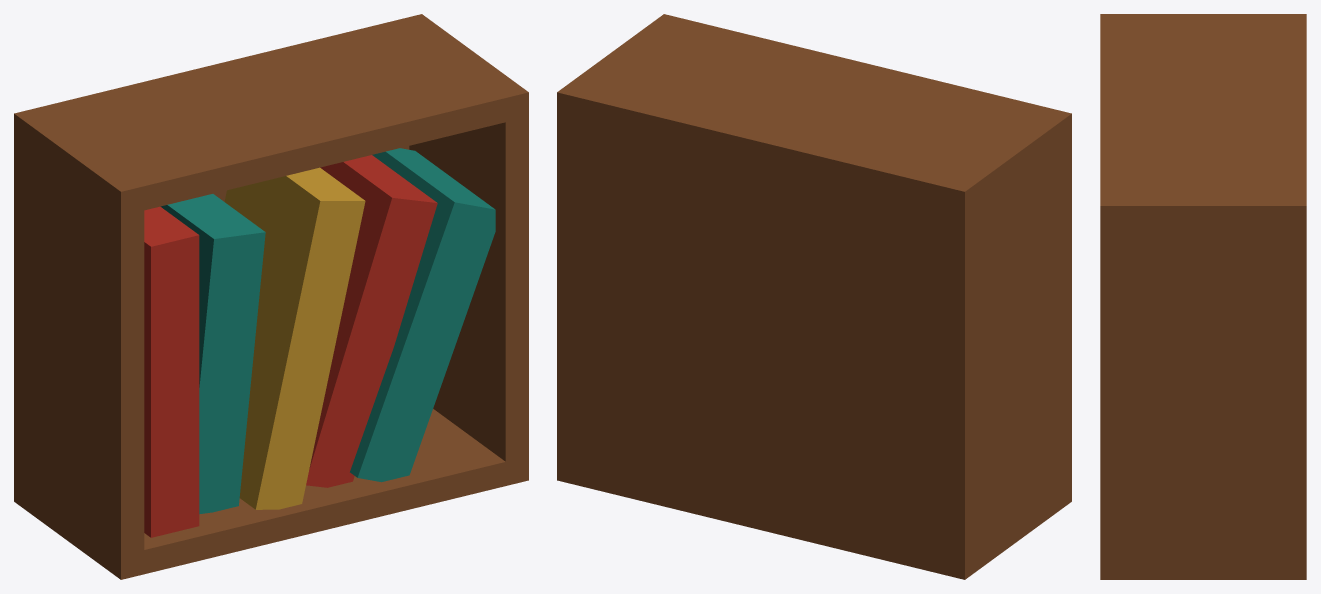
The model's file is bookshelf-5e881a.glb.
The picture shows the model from 3 angles, left to right: view 1: azimuth 30°, elevation 25°; view 2: azimuth 150°, elevation 25°; view 3: azimuth 270°, elevation 25°; orthographic projection. The views are drawn at different scales.
Size of the model in its own units: 0.44 by 0.4 by 0.2.
